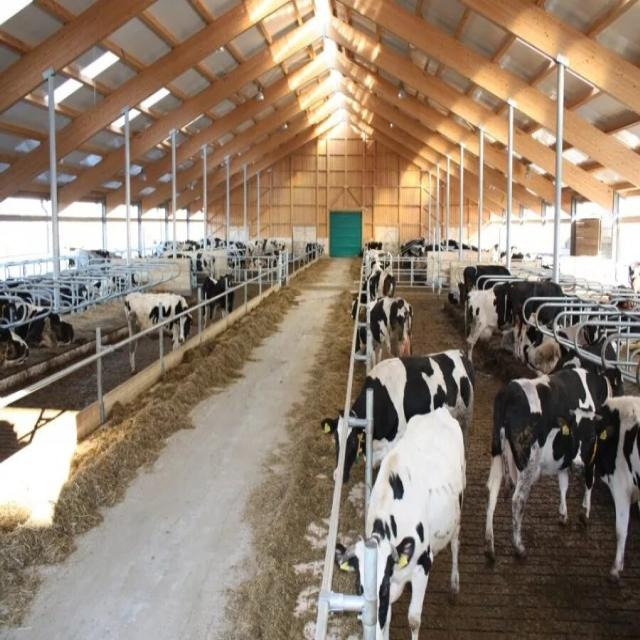cow: (321, 244, 638, 636), (0, 234, 323, 374), (334, 404, 466, 639), (483, 349, 623, 563), (320, 347, 475, 485), (570, 393, 639, 581), (122, 290, 193, 374), (366, 295, 413, 371), (201, 272, 235, 325)
